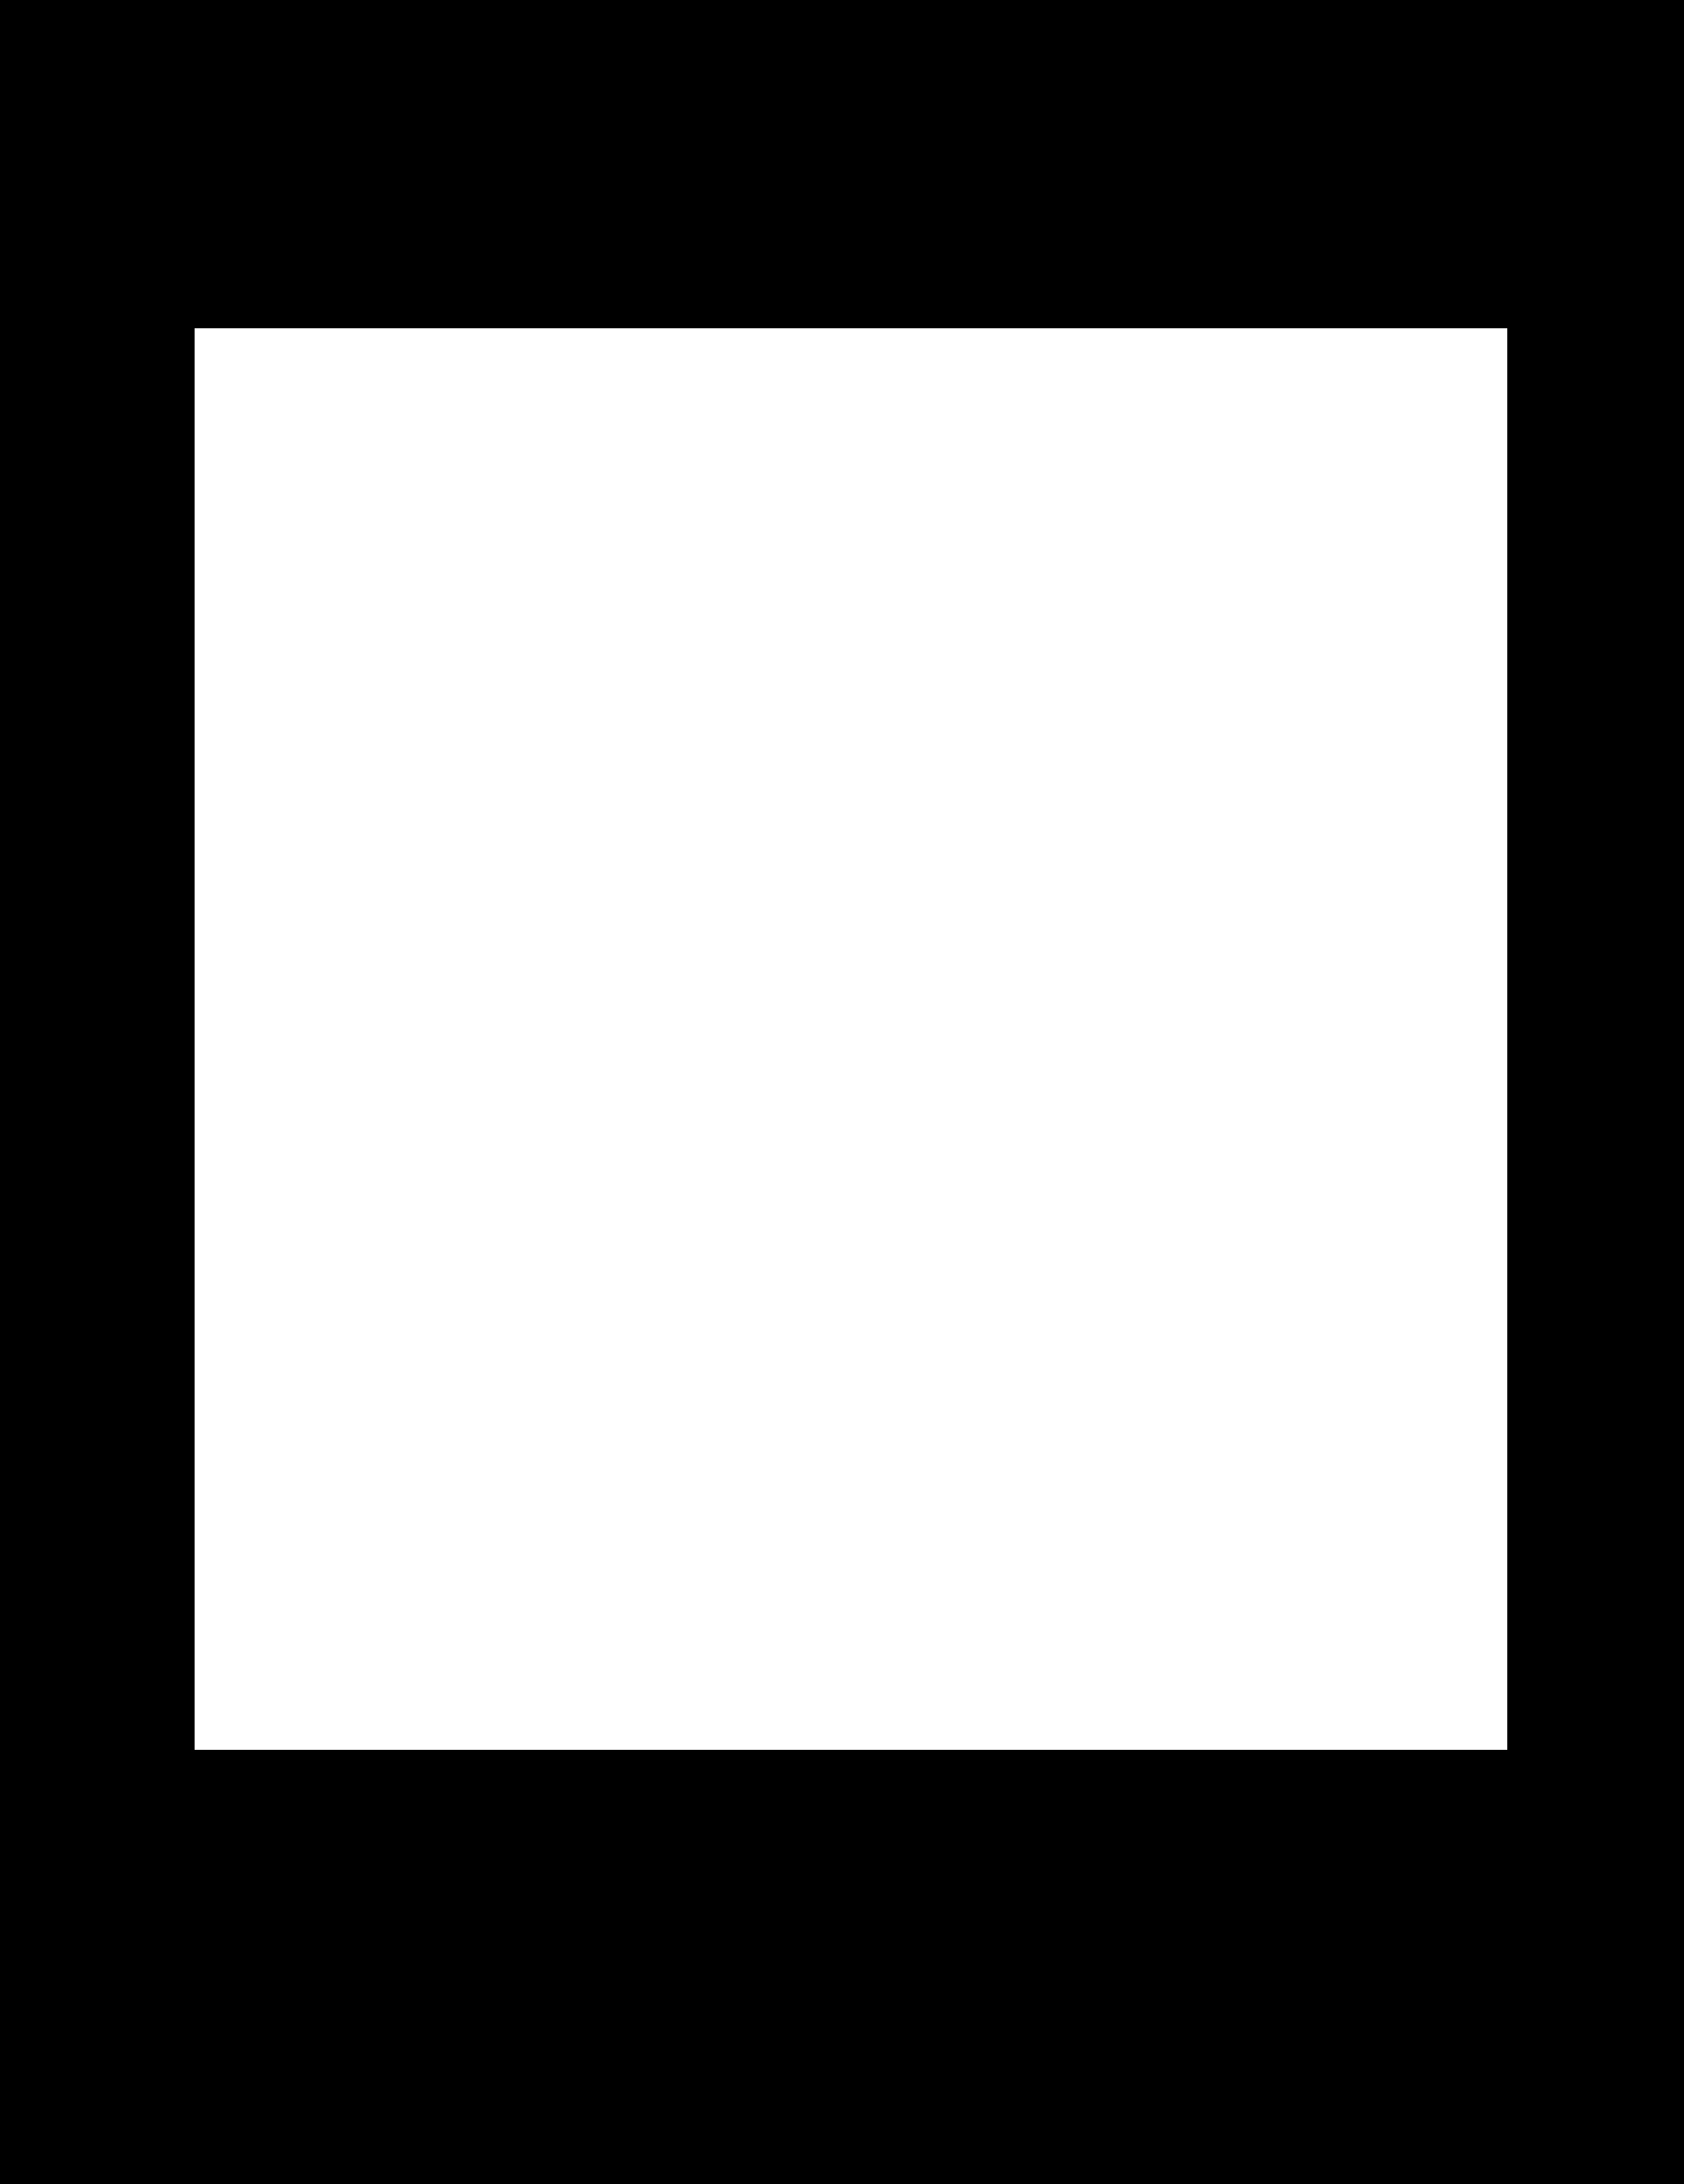table: (195, 329, 1507, 1749)
